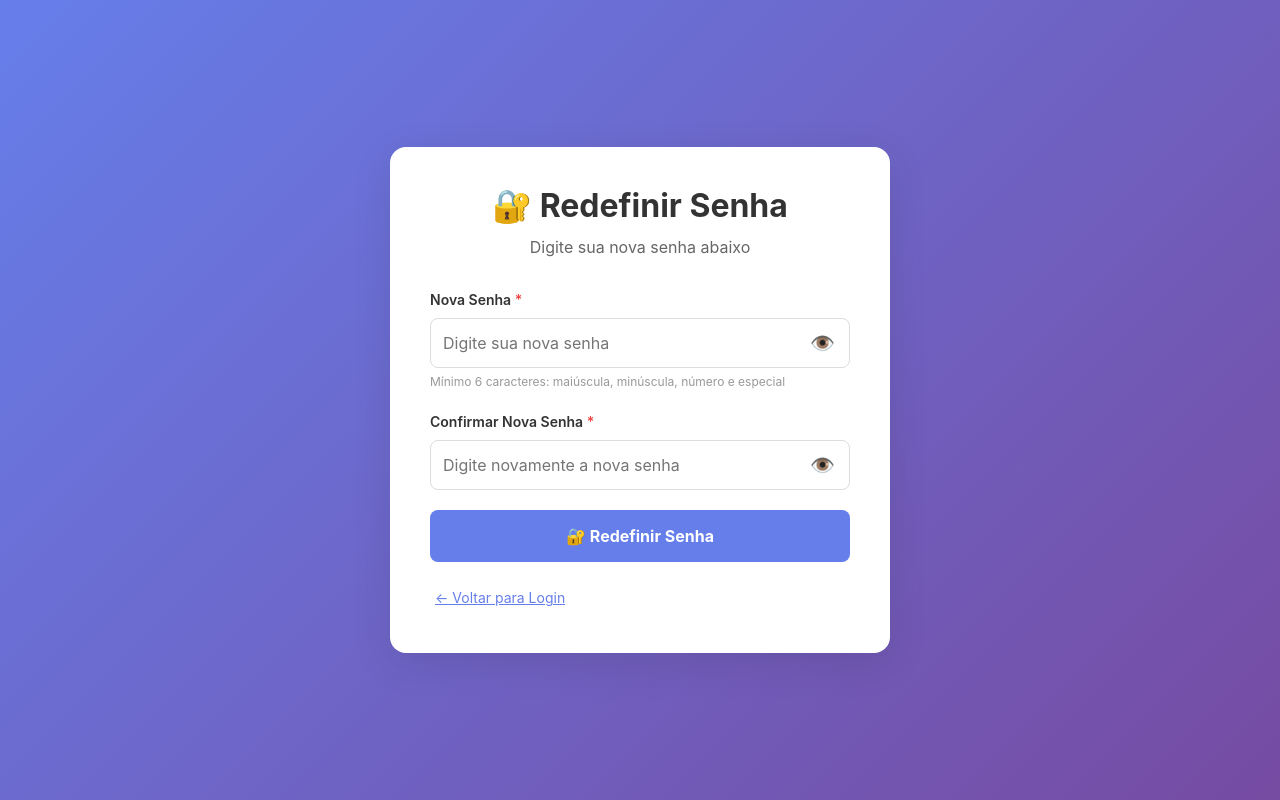
Test case: ResetPassword (público) › envia reset com token válido e redireciona
The image size is (1280, 800).
Step 1. Type "Senha@123" into the password field with placeholder "Digite sua nova senha" → (640, 343), box x1=430 y1=318 x2=850 y2=368
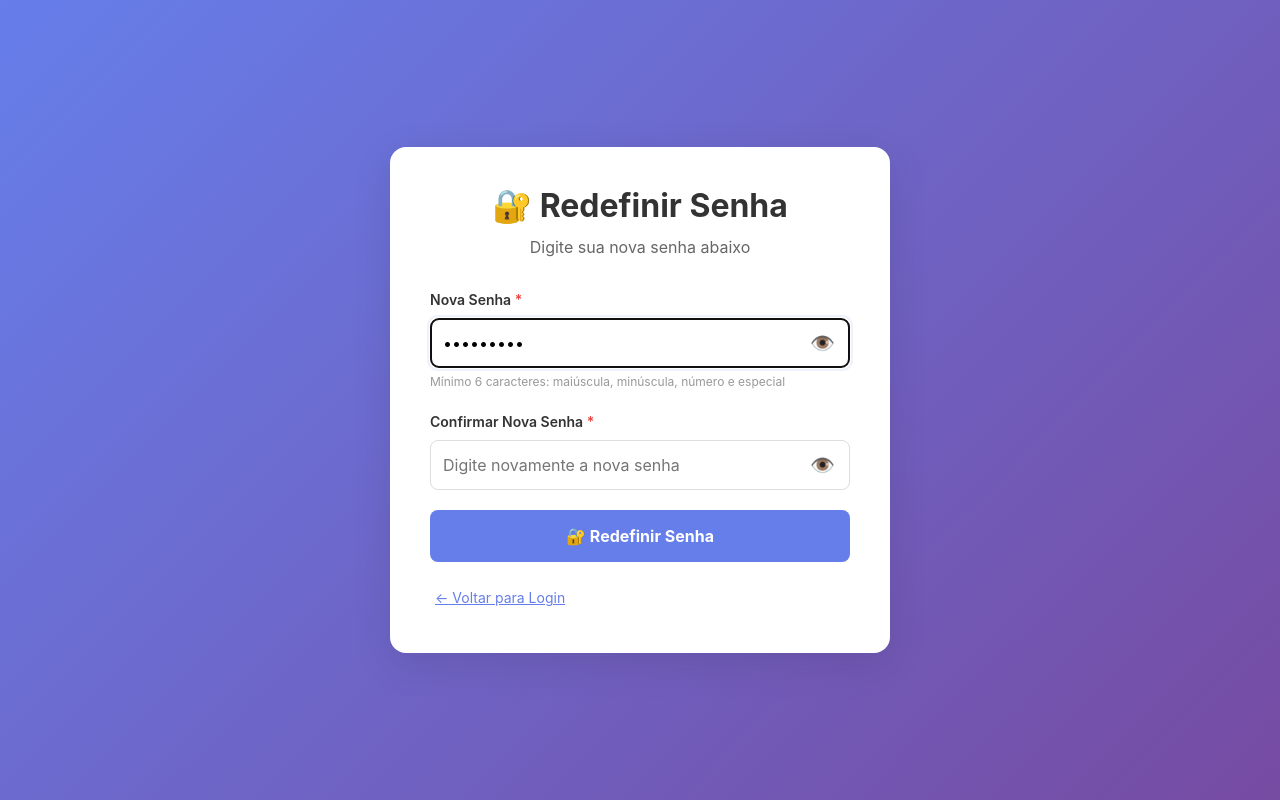
Step 2. Type "Senha@123" into the password field with placeholder "Digite novamente a nova senha" → (640, 465), box x1=430 y1=440 x2=850 y2=490
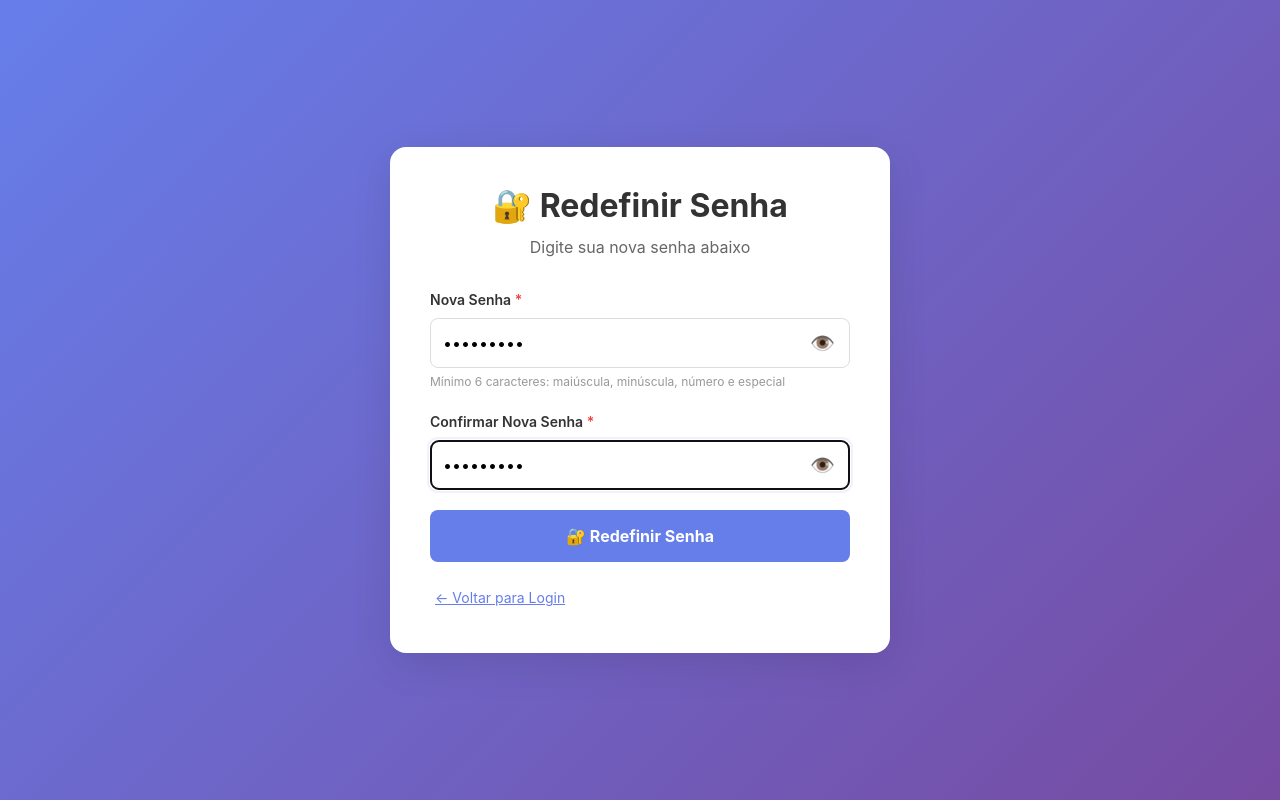
Step 3. Click the button "🔐 Redefinir Senha" → (640, 536), box x1=430 y1=510 x2=850 y2=562
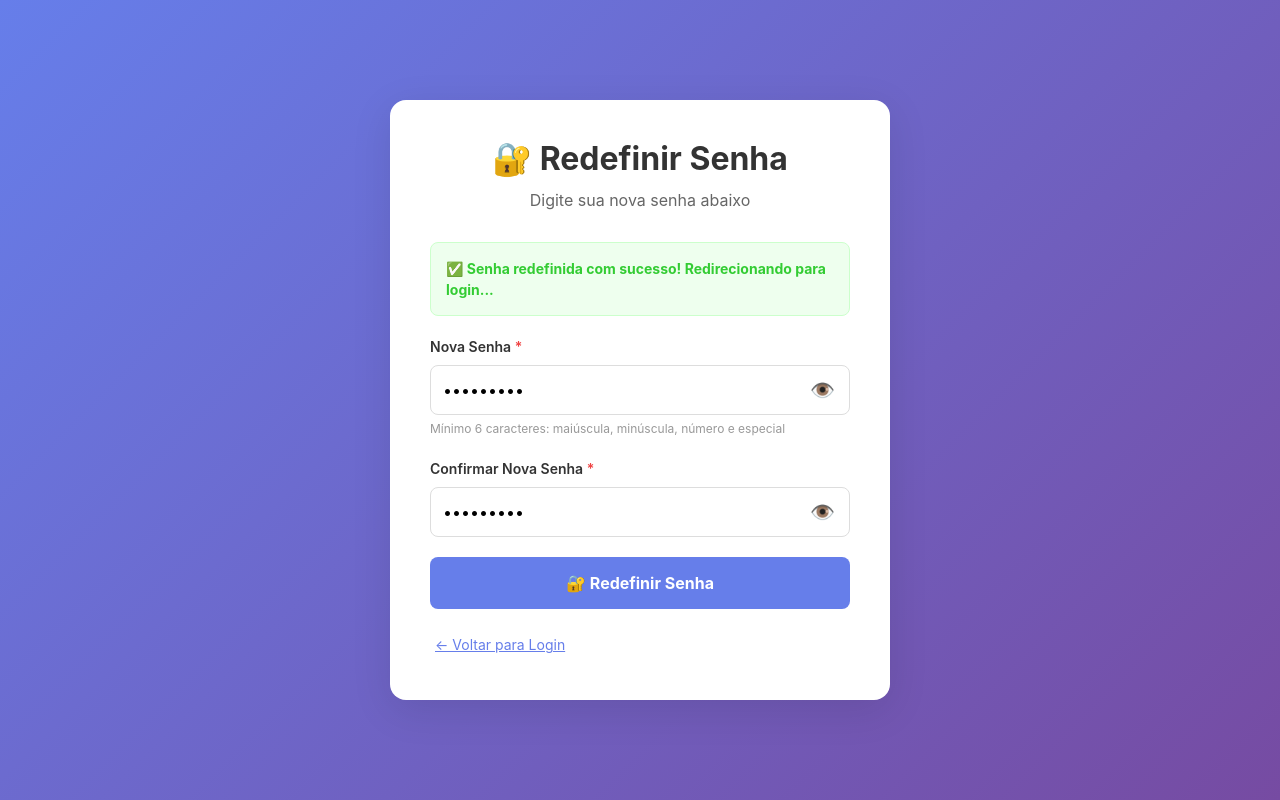
Now the text "✅ Senha redefinida com sucesso! Redirecionando para login..." is shown, box x1=430 y1=242 x2=850 y2=316
